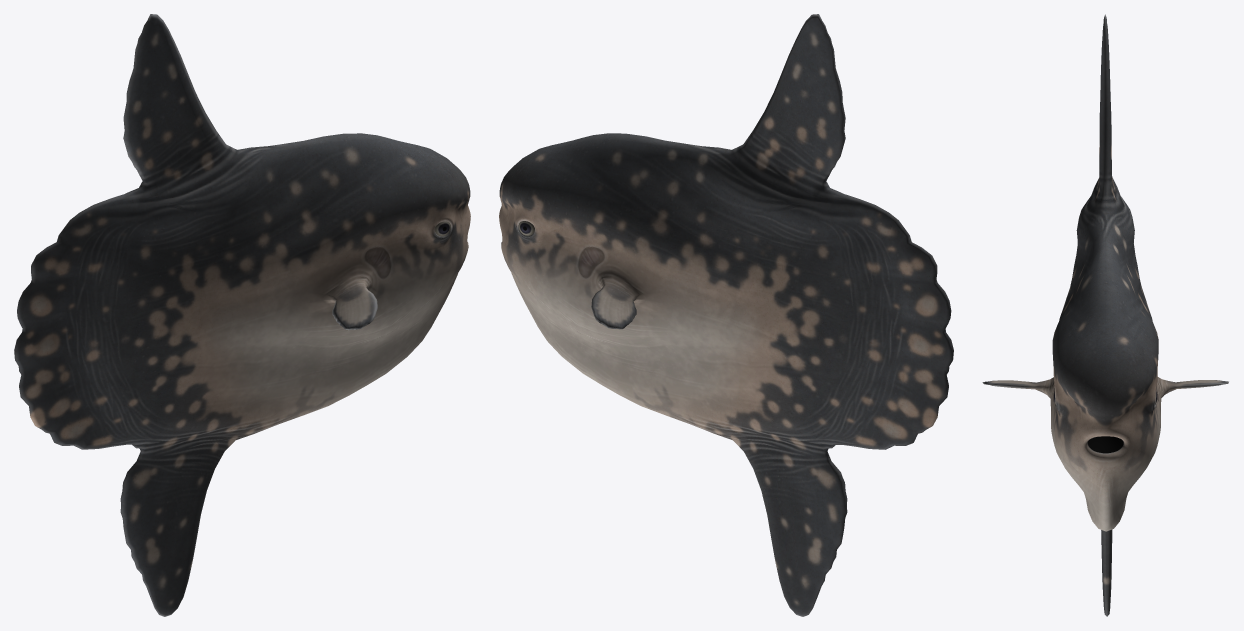
The model's file is pezluna.glb.
3 renders of one model, left to right at view 1: azimuth 30°, elevation 25°; view 2: azimuth 150°, elevation 25°; view 3: azimuth 270°, elevation 25°, orthographic. The views are drawn at different scales.
Visible parts, largest first — view 1: Body; view 2: Body; view 3: Body.
Part boxes in pixels (<box>): Body: <box>14,14,470,616</box>; Body: <box>499,14,953,616</box>; Body: <box>982,14,1228,616</box>.
Bounding box in the file's own units: 3.4 × 4.35 × 1.64.
1 material, 1 textured.
